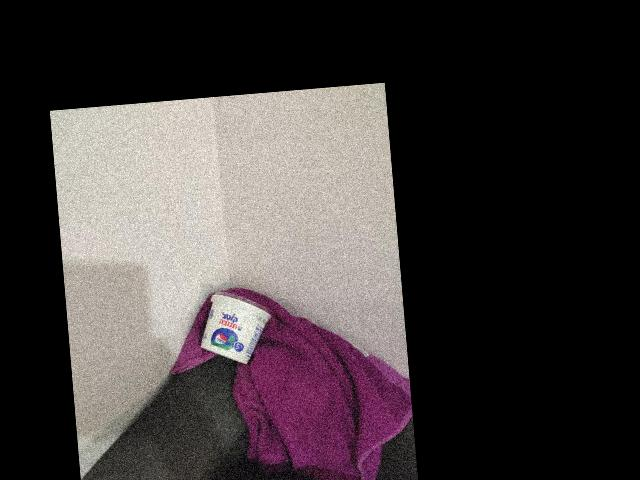cotage: (199, 284, 272, 364)
